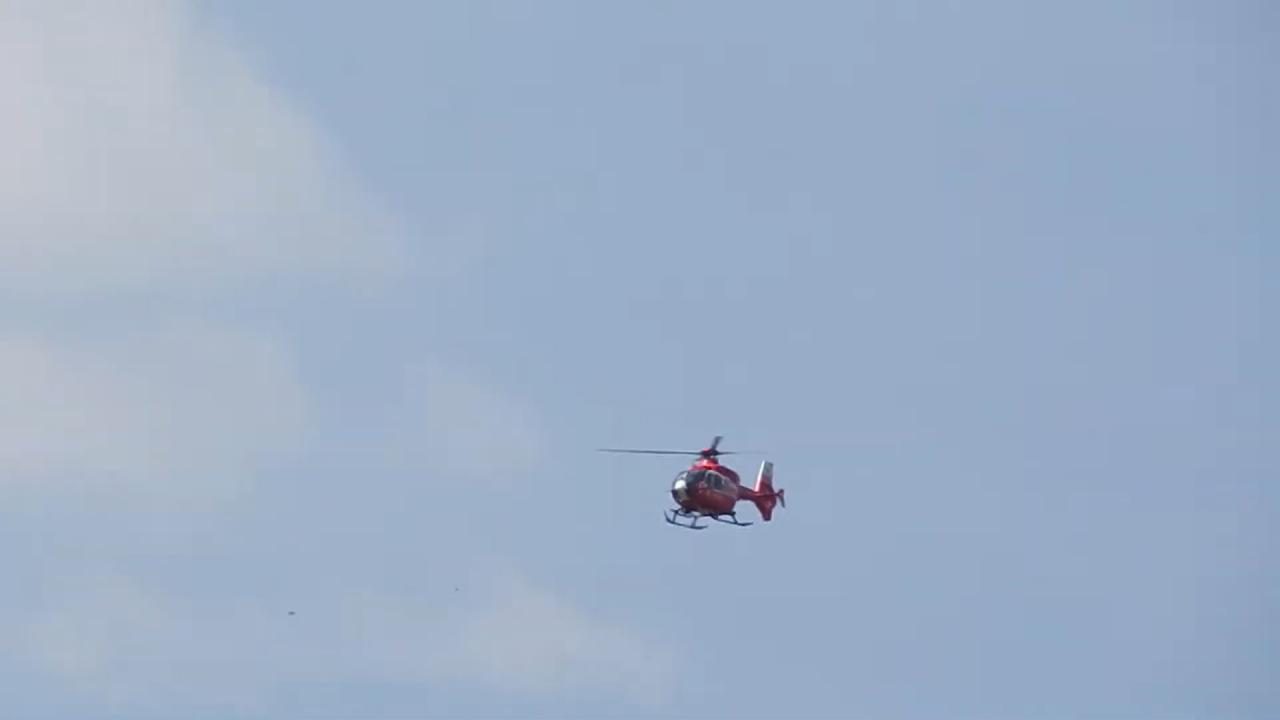Helicopter: (575, 409, 824, 552)
